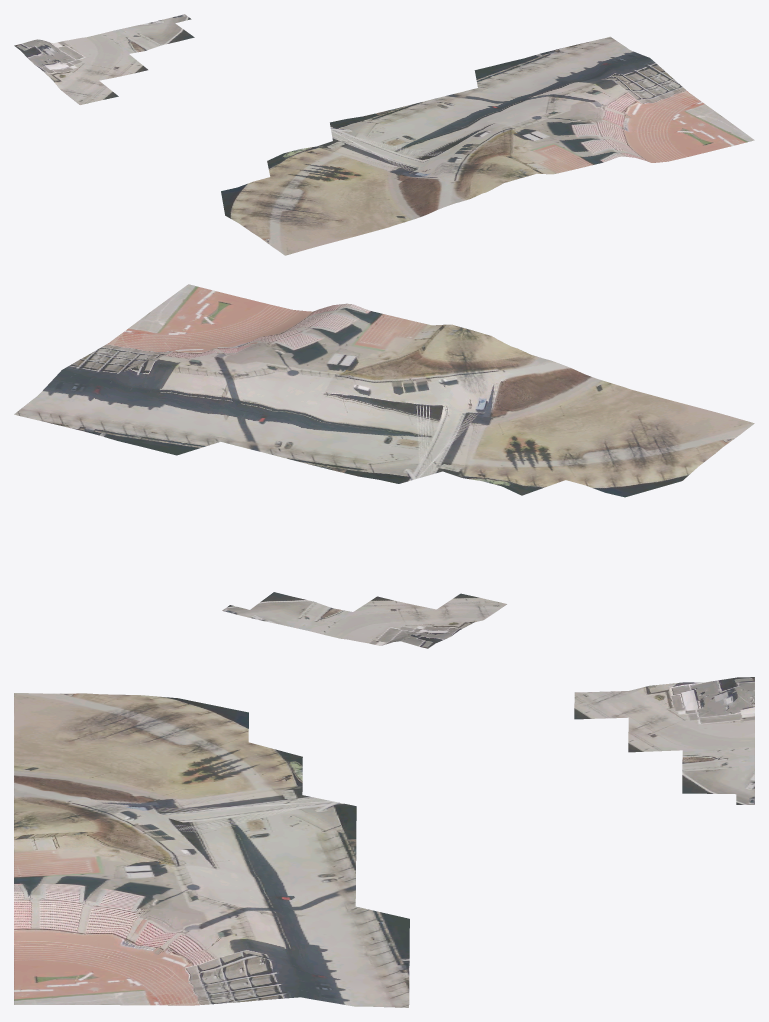
Rendered from CM_Terrain_24487182_6820408.fbx.
3 renders of one model, top to bottom at view 1: azimuth 30°, elevation 25°; view 2: azimuth 150°, elevation 25°; view 3: azimuth 270°, elevation 25°, orthographic. The views are drawn at different scales.
Parts seen in each view (by area): view 1: CM_Terrain_24487182_6820408_LOD0; view 2: CM_Terrain_24487182_6820408_LOD0; view 3: CM_Terrain_24487182_6820408_LOD0.
Boxes of the visible parts, box(x1,y1,x2,y2) form: CM_Terrain_24487182_6820408_LOD0: box(14, 14, 754, 255); CM_Terrain_24487182_6820408_LOD0: box(14, 284, 754, 648); CM_Terrain_24487182_6820408_LOD0: box(14, 677, 754, 1007).
Size of what is drawn, in the model's own units: 205 by 10.3 by 205.
